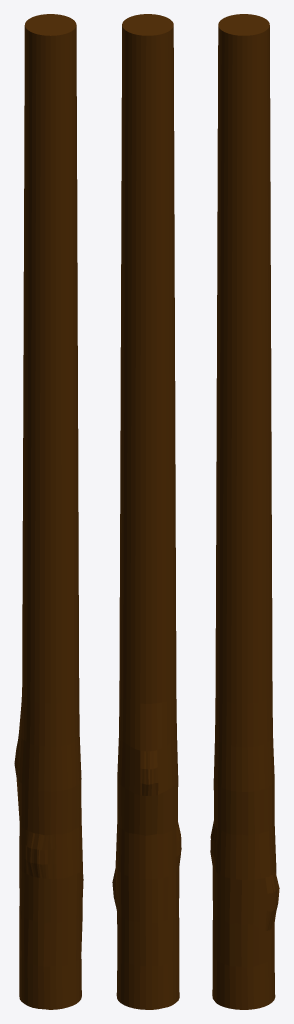
File: drvo2.fbx
3 views of the same model, side by side, from view 1: azimuth 30°, elevation 25°; view 2: azimuth 150°, elevation 25°; view 3: azimuth 330°, elevation 25° (orthographic).
Parts seen in each view (by area): view 1: sumadrvo2; view 2: sumadrvo2; view 3: sumadrvo2.
Boxes of the visible parts, x1,y1,x2,y2 form: sumadrvo2: (14, 14, 83, 1009); sumadrvo2: (112, 14, 181, 1009); sumadrvo2: (210, 14, 279, 1009).
Bounding box in the file's own units: 159 × 2516 × 156.
